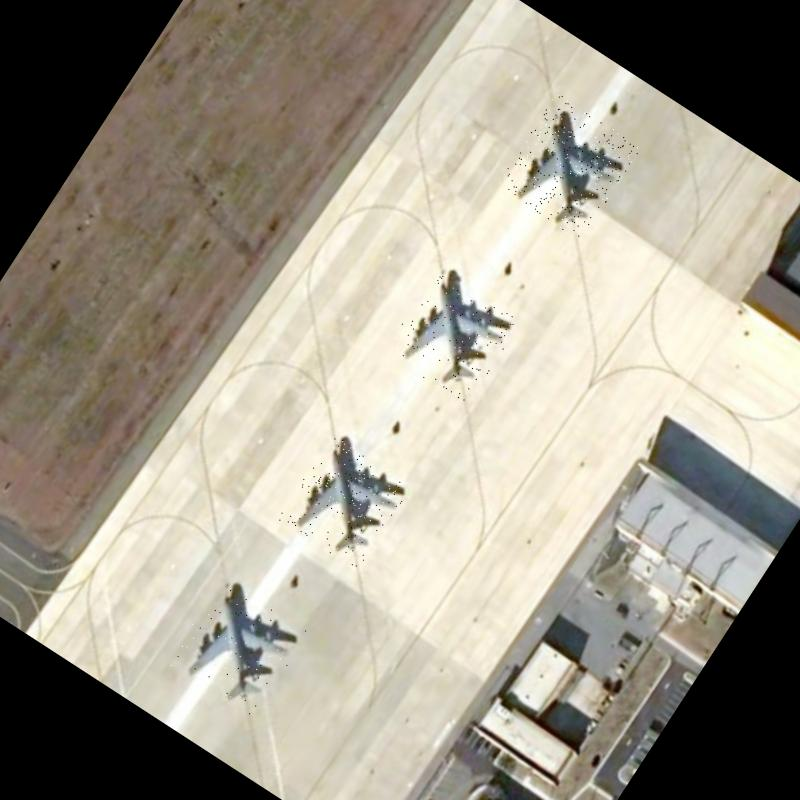A14: (495, 92, 641, 242), (166, 576, 309, 720), (383, 267, 522, 407), (277, 434, 413, 572)
